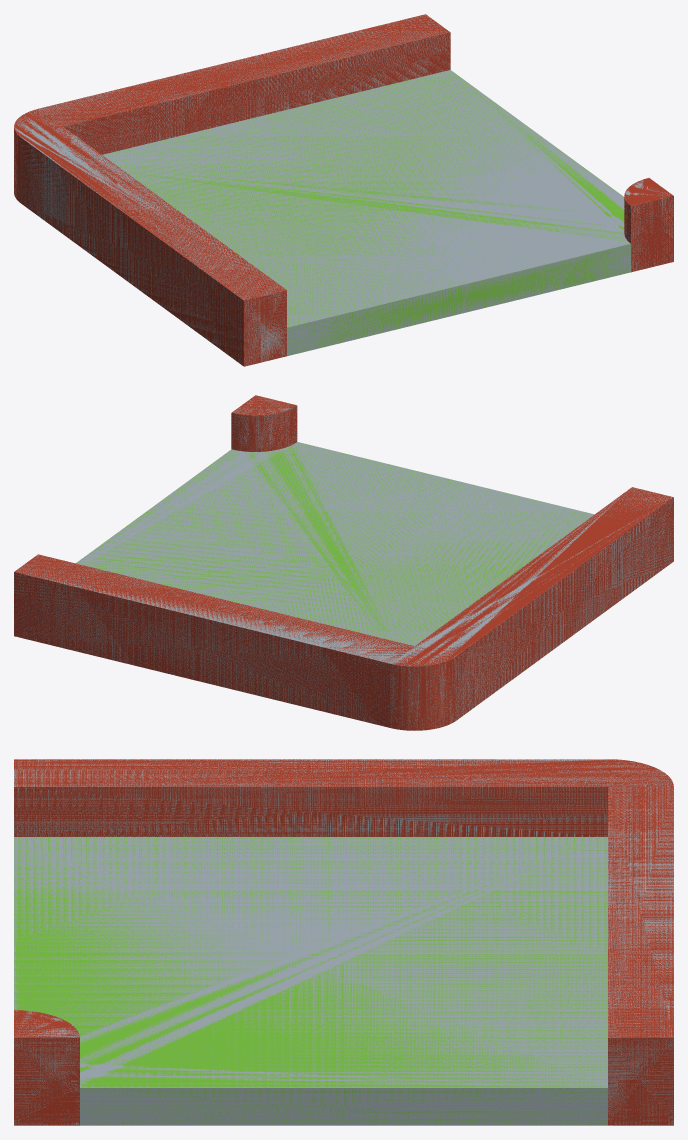
File: Square_corner_1_01.fbx
3 renders of one model, top to bottom at view 1: azimuth 30°, elevation 25°; view 2: azimuth 150°, elevation 25°; view 3: azimuth 270°, elevation 25°, orthographic. The views are drawn at different scales.
Parts seen in each view (by area): view 1: Mesh1_Square_corner_1 Model; view 2: Mesh1_Square_corner_1 Model; view 3: Mesh1_Square_corner_1 Model.
Part boxes in pixels (x1=…): Mesh1_Square_corner_1 Model: x1=14, y1=14, x2=673, y2=366; Mesh1_Square_corner_1 Model: x1=14, y1=395, x2=673, y2=730; Mesh1_Square_corner_1 Model: x1=14, y1=759, x2=673, y2=1125.
Size of the model in its own units: 3 by 0.44 by 3.
